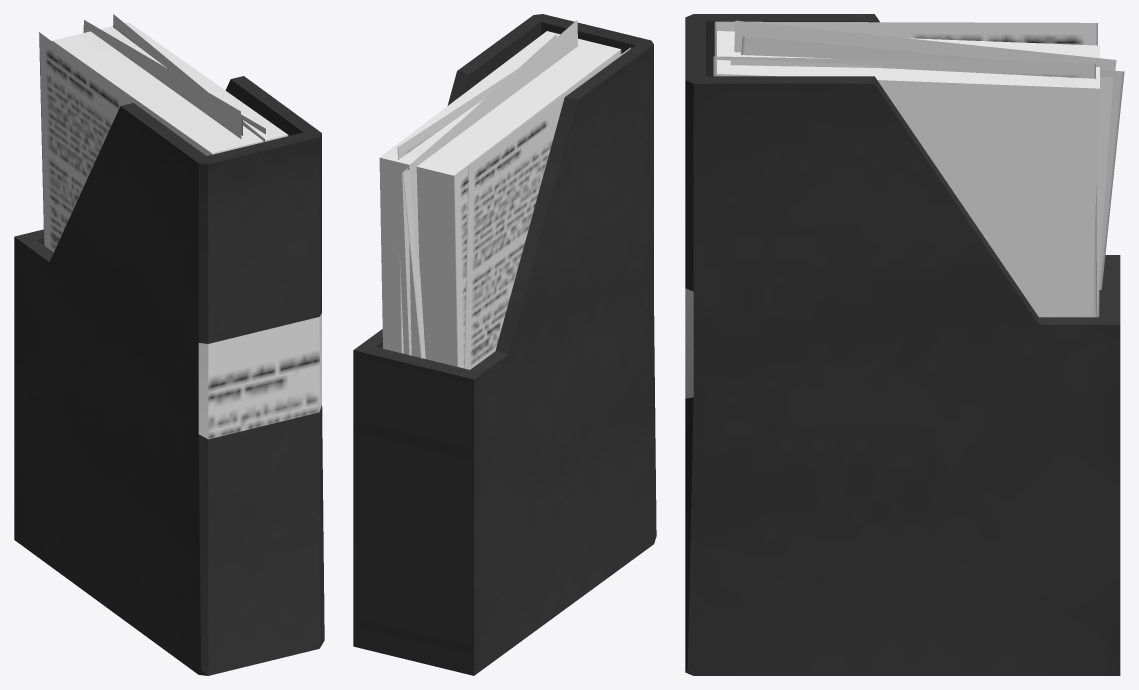
File: document_folder_1.fbx
3 renders of one model, left to right at view 1: azimuth 30°, elevation 25°; view 2: azimuth 150°, elevation 25°; view 3: azimuth 270°, elevation 25°, orthographic. The views are drawn at different scales.
Visible parts, largest first — view 1: document_folder_1; view 2: document_folder_1; view 3: document_folder_1.
Boxes of the visible parts, bbox=[...] form: document_folder_1: bbox=[14, 14, 324, 675]; document_folder_1: bbox=[353, 14, 656, 675]; document_folder_1: bbox=[685, 14, 1124, 675].
Size of the model in its own units: 8.3 by 34.38 by 22.08.
